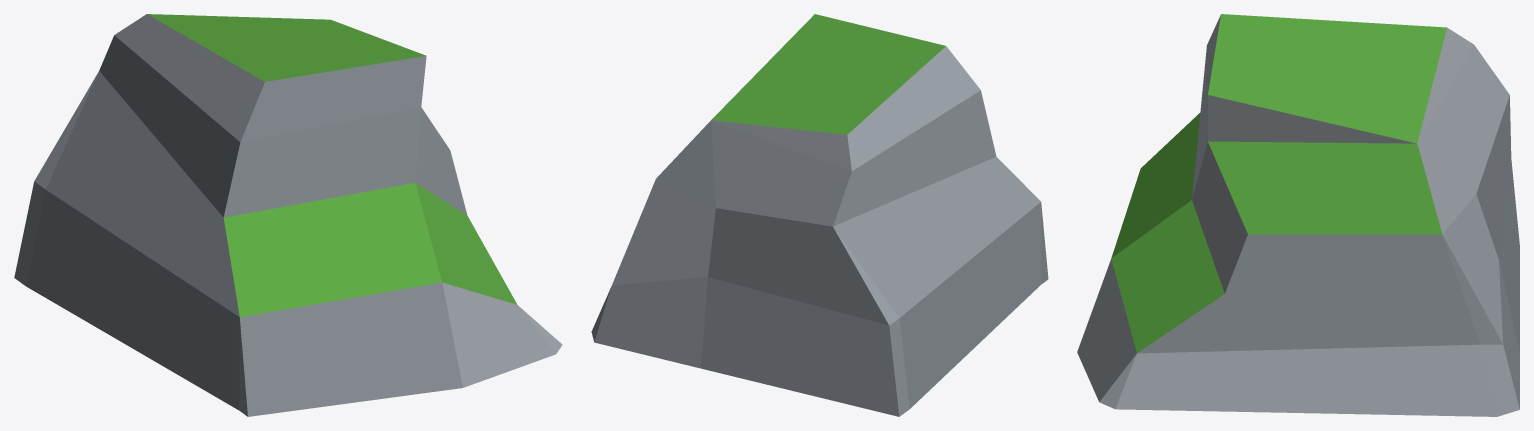
The model's file is mossy-rock.glb.
3 views of the same model, side by side, from view 1: azimuth 30°, elevation 25°; view 2: azimuth 150°, elevation 25°; view 3: azimuth 270°, elevation 25° (orthographic). The views are drawn at different scales.
Parts seen in each view (by area): view 1: Rock_Moss_3; view 2: Rock_Moss_3; view 3: Rock_Moss_3.
Boxes of the visible parts, box(x1,y1,x2,y2) form: Rock_Moss_3: box(14, 14, 562, 416); Rock_Moss_3: box(591, 14, 1048, 416); Rock_Moss_3: box(1077, 14, 1519, 416).
Size of the model in its own units: 1.48 by 1.11 by 1.61.
